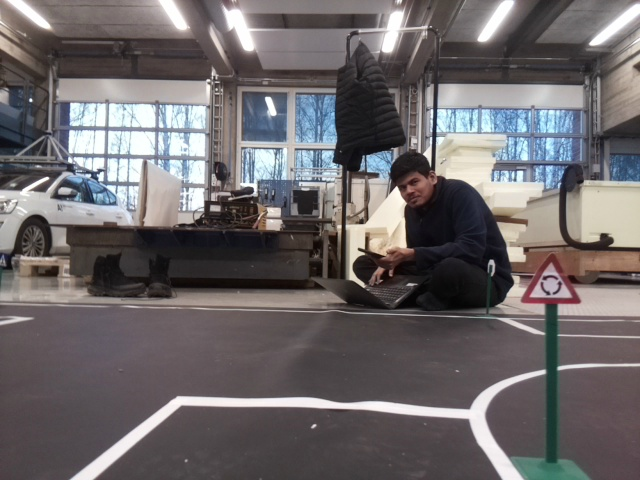Roundabout: (515, 249, 579, 301)
